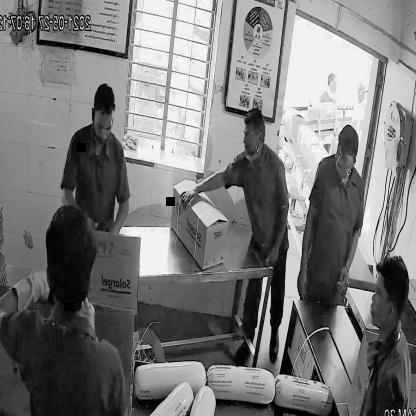no_goggles: (89, 114, 117, 138), (334, 146, 358, 169)
